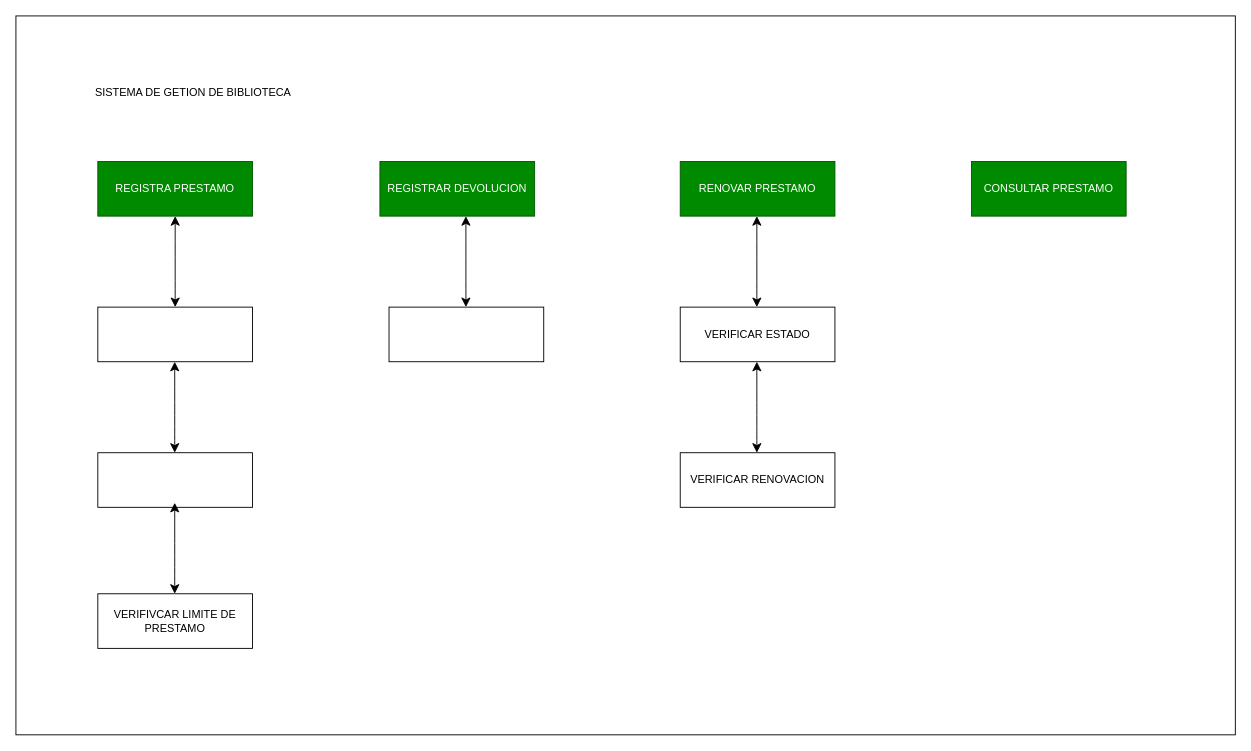
Some shapes in this 1251 by 751 pixel diagram are drawn without their labels. The shapes that lost their labels are listed below. From the top down, each one's centre as x and y in pixels, then its label:
At point 175,334: "VRIFICAR MULTAS".
At point 466,334: "GENERAR MULTA".
At point 175,479: "VERIFICAR DISPONIBILIDAD LIBRO".
